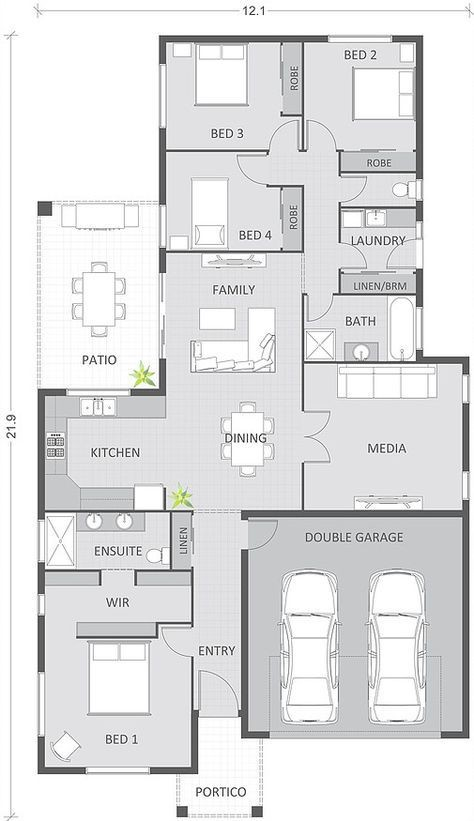door: (306, 406, 338, 467), (196, 669, 236, 707), (250, 518, 282, 557), (235, 153, 265, 189), (159, 624, 188, 661), (343, 240, 372, 270), (306, 118, 337, 146), (343, 174, 371, 204), (383, 242, 412, 270), (267, 119, 300, 143), (305, 298, 332, 324)
room: (33, 567, 199, 775), (297, 353, 474, 520), (155, 247, 308, 400), (156, 31, 309, 156), (299, 29, 425, 174), (155, 146, 308, 256), (32, 508, 198, 572), (298, 289, 424, 366)
